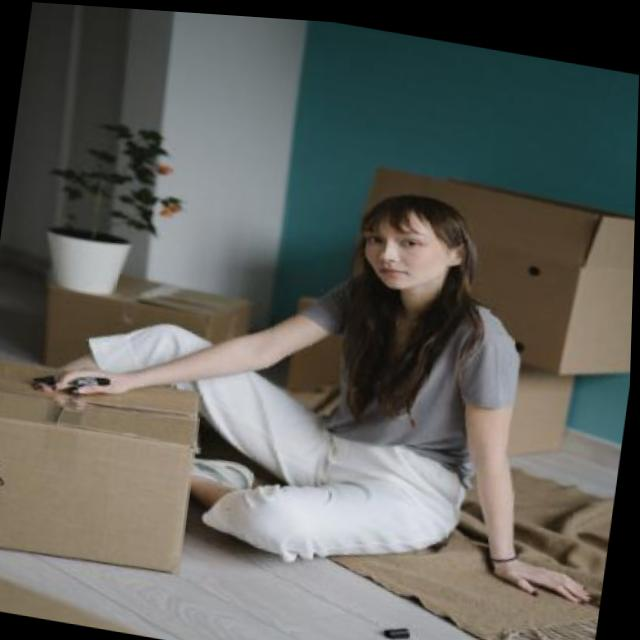box: (354, 139, 637, 378), (0, 345, 226, 595), (253, 303, 608, 447), (24, 248, 273, 400)
